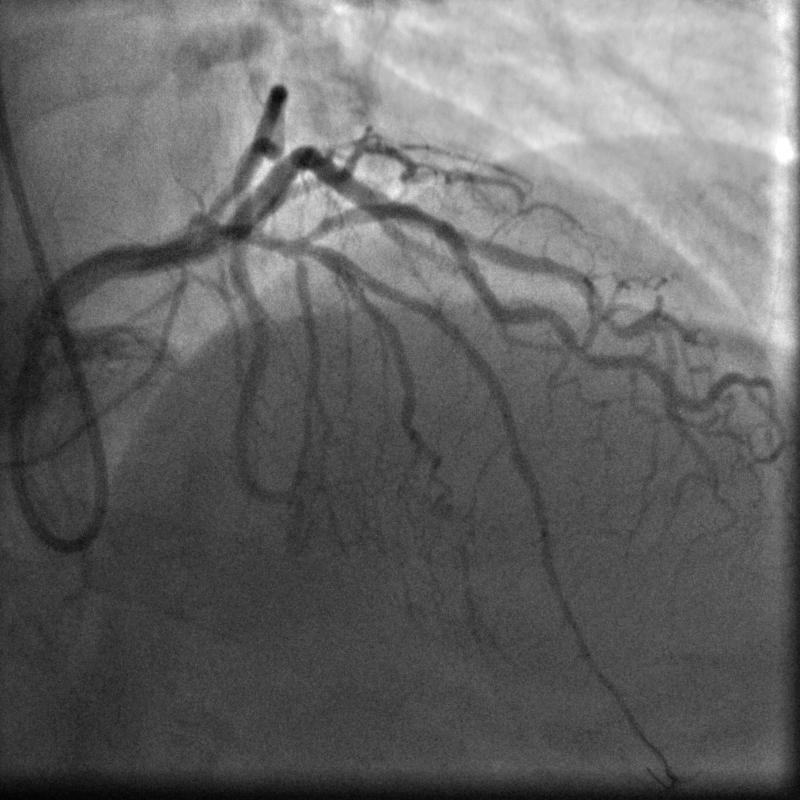Stenosis: (407, 197, 443, 243)
